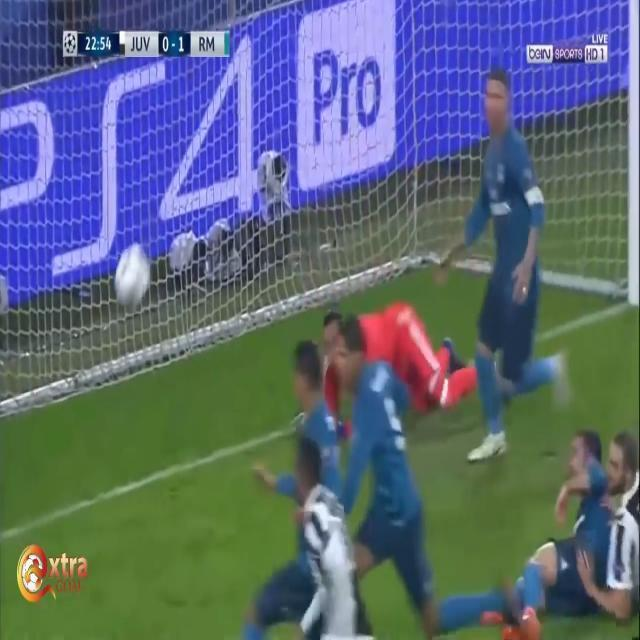goalkeeper: (311, 302, 492, 464)
player: (453, 71, 580, 440), (327, 323, 458, 627), (265, 432, 371, 640)
